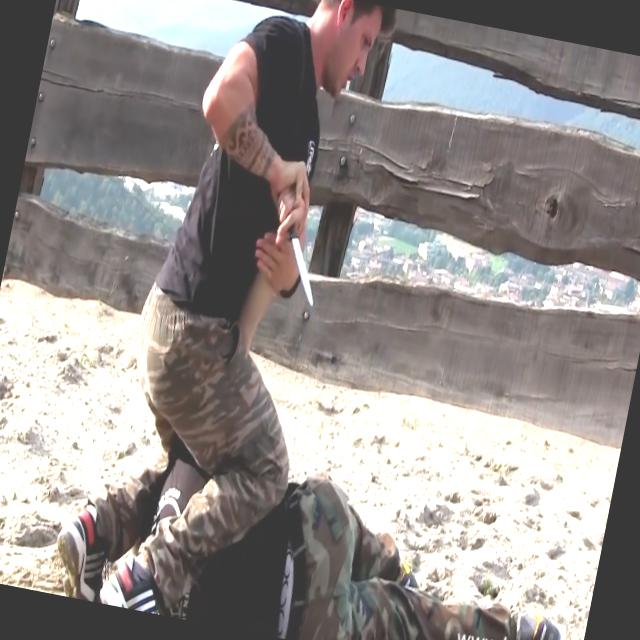knife: (257, 200, 336, 316)
